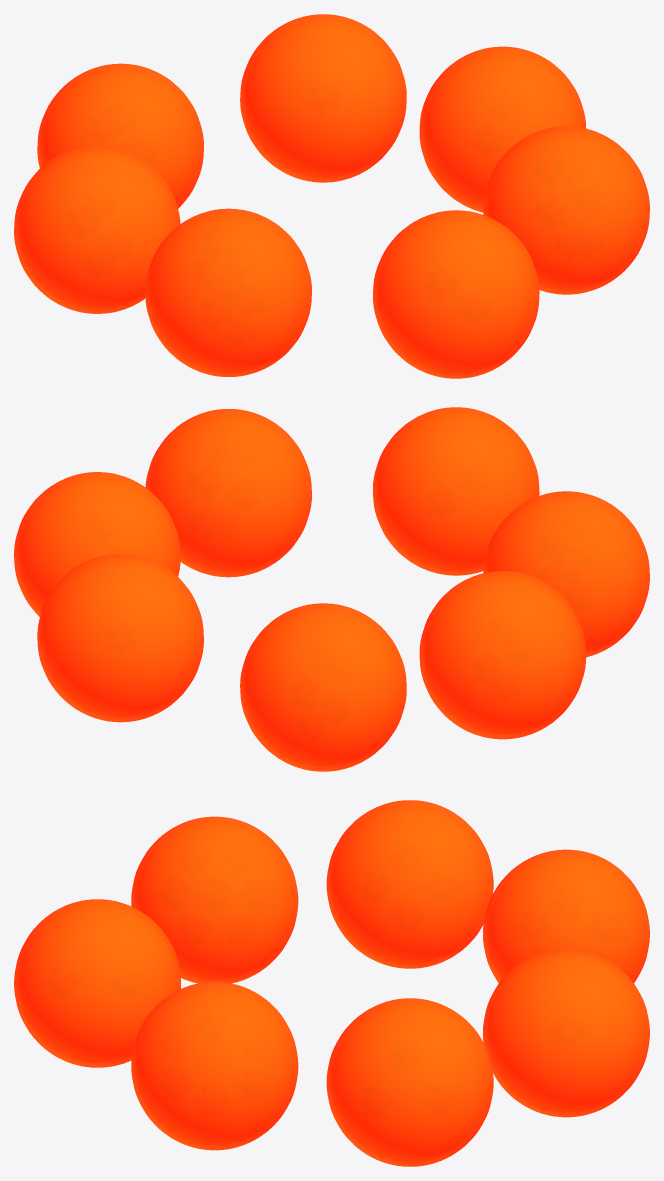
File: dragon ball 4.glb
3 renders of one model, top to bottom at view 1: azimuth 30°, elevation 25°; view 2: azimuth 150°, elevation 25°; view 3: azimuth 270°, elevation 25°, orthographic.
Parts seen in each view (by area): view 1: Dragon ball 2, Dragon ball 1, Dragon ball 7, Dragon ball 4, Dragon ball 6, Dragon ball 3, Dragon ball 5; view 2: Dragon ball 1, Dragon ball 4, Dragon ball 5, Dragon ball 6, Dragon ball 2, Dragon ball 7, Dragon ball 3; view 3: Dragon ball 3, Dragon ball 6, Dragon ball 4, Dragon ball 1, Dragon ball 2, Dragon ball 7, Dragon ball 5.
Boxes of the visible parts, x1,y1,x2,y2 form: Dragon ball 2: (373,210,539,378); Dragon ball 1: (240,14,406,182); Dragon ball 7: (145,208,311,376); Dragon ball 4: (14,145,180,313); Dragon ball 6: (483,126,649,294); Dragon ball 3: (419,46,586,212); Dragon ball 5: (37,63,203,208); Dragon ball 1: (37,554,203,722); Dragon ball 4: (419,571,586,739); Dragon ball 5: (240,603,406,771); Dragon ball 6: (145,409,311,577); Dragon ball 2: (373,407,539,575); Dragon ball 7: (483,491,649,657); Dragon ball 3: (14,472,180,616); Dragon ball 3: (326,998,493,1166); Dragon ball 6: (131,981,298,1150); Dragon ball 4: (326,800,493,968); Dragon ball 1: (483,948,649,1117); Dragon ball 2: (14,899,180,1067); Dragon ball 7: (131,816,298,983); Dragon ball 5: (483,849,649,982).
Size of the model in its own units: 16.28 by 4.34 by 16.28.
